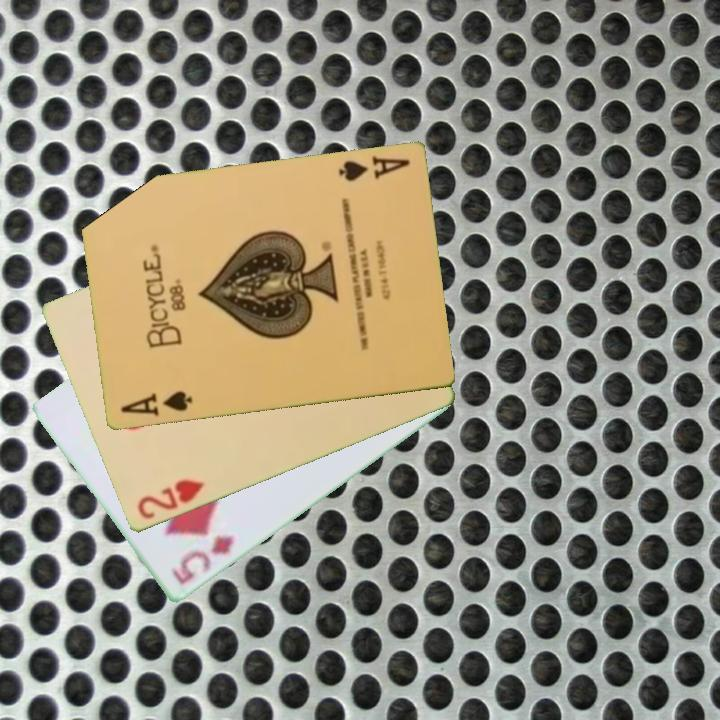2h: (133, 476, 208, 523)
5d: (167, 532, 237, 588)
As: (117, 387, 195, 420), (335, 152, 413, 185)
